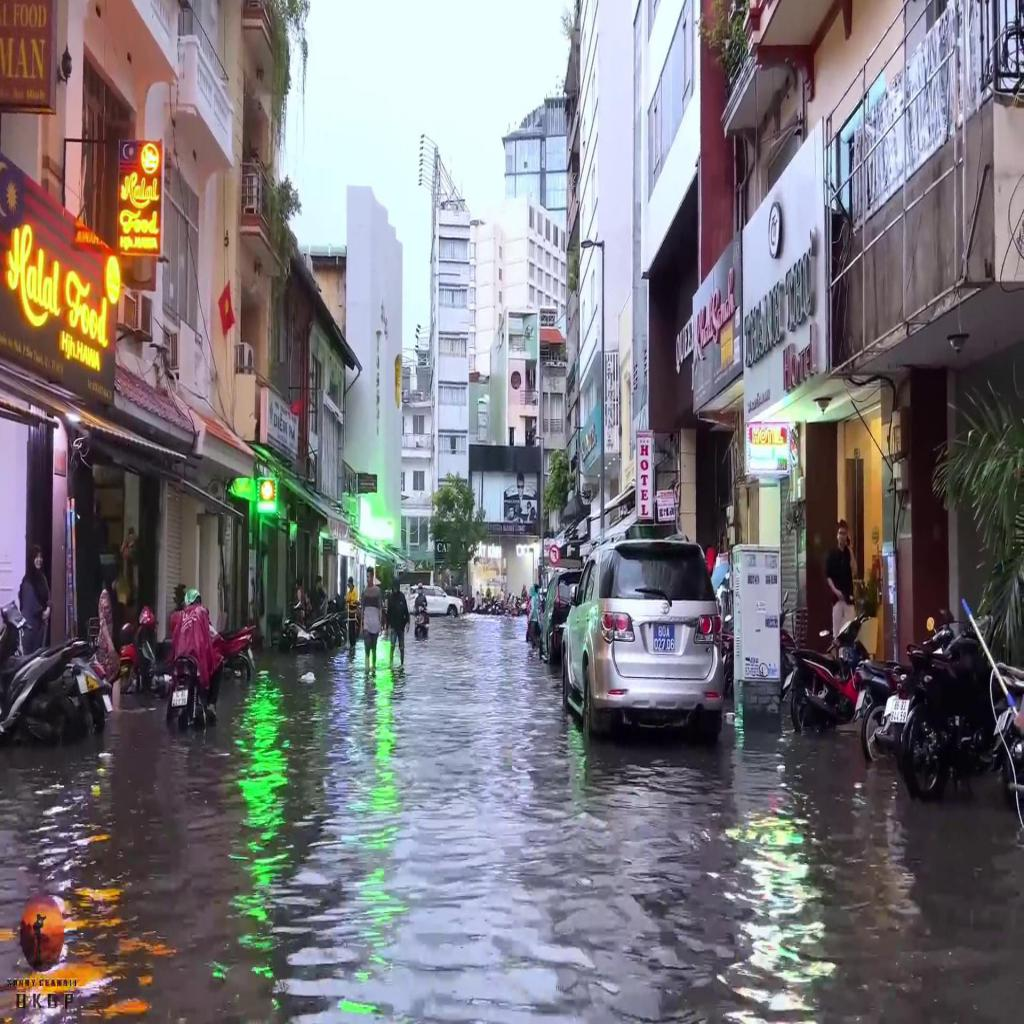cam_re_trai: (549, 545, 560, 564)
